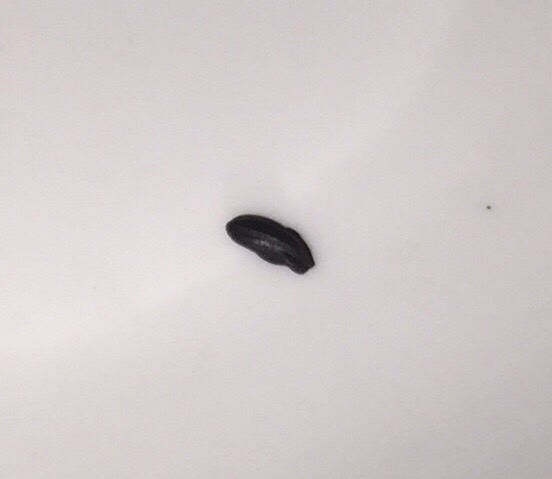Gao Nep Cam: (221, 205, 322, 284)
